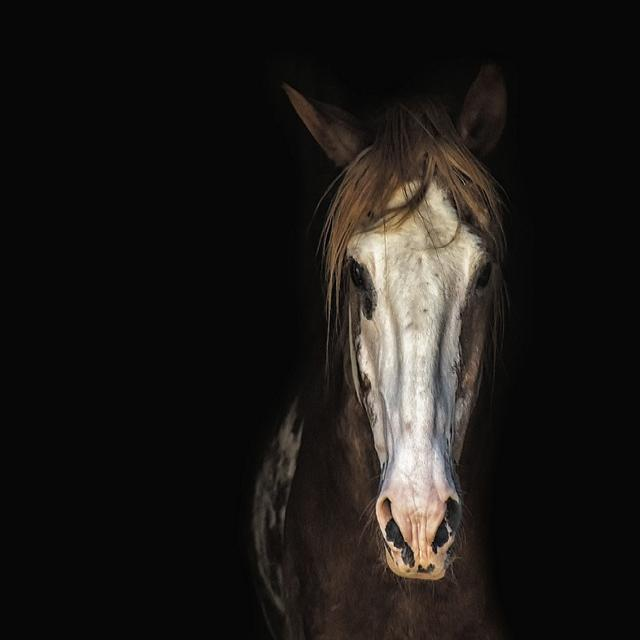Herbivorous: (243, 60, 526, 640)
